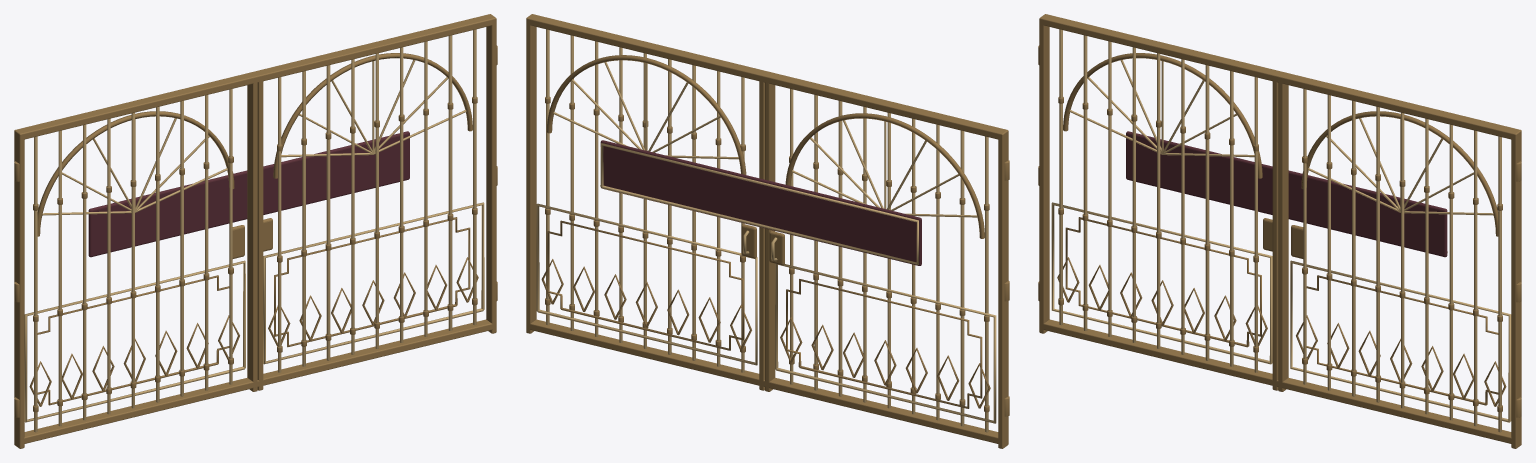
File: hotel-entry-gate.glb
The picture shows the model from 3 angles, left to right: view 1: azimuth 30°, elevation 25°; view 2: azimuth 150°, elevation 25°; view 3: azimuth 330°, elevation 25°; orthographic projection.
Parts seen in each view (by area): view 1: Entry gate / Entry aged bronze, Entry gate / Entry champagne brass, Entry gate / Entry smoky oxblood lacquer; view 2: Entry gate / Entry aged bronze, Entry gate / Entry champagne brass, Entry gate / Entry smoky oxblood lacquer; view 3: Entry gate / Entry aged bronze, Entry gate / Entry champagne brass, Entry gate / Entry smoky oxblood lacquer.
Boxes of the visible parts, x1,y1,x2,y2 form: Entry gate / Entry aged bronze: (14, 14, 497, 448); Entry gate / Entry champagne brass: (24, 29, 484, 432); Entry gate / Entry smoky oxblood lacquer: (88, 131, 409, 257); Entry gate / Entry aged bronze: (526, 14, 1009, 448); Entry gate / Entry champagne brass: (536, 29, 996, 432); Entry gate / Entry smoky oxblood lacquer: (600, 140, 921, 265); Entry gate / Entry aged bronze: (1038, 14, 1521, 448); Entry gate / Entry champagne brass: (1051, 29, 1511, 432); Entry gate / Entry smoky oxblood lacquer: (1126, 131, 1447, 257).
Bounding box in the file's own units: 4.81 × 3.01 × 0.2082.
